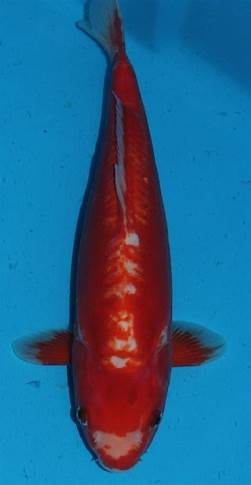red: (12, 1, 226, 472)
